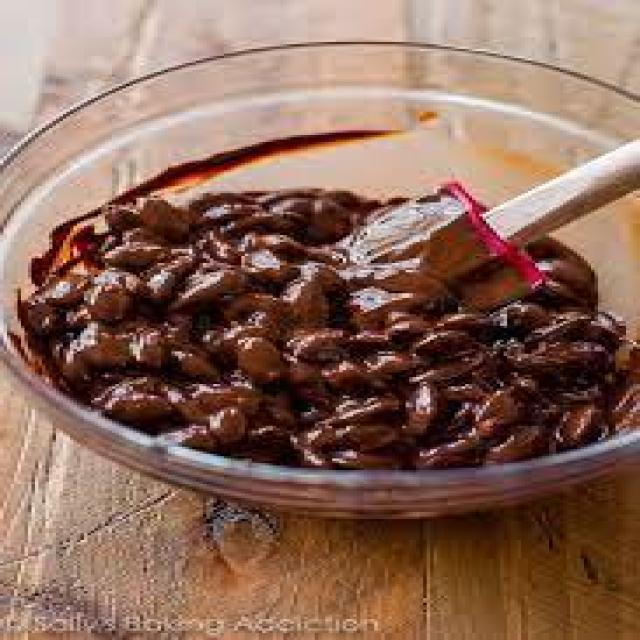Chocolate: (23, 188, 640, 473)
